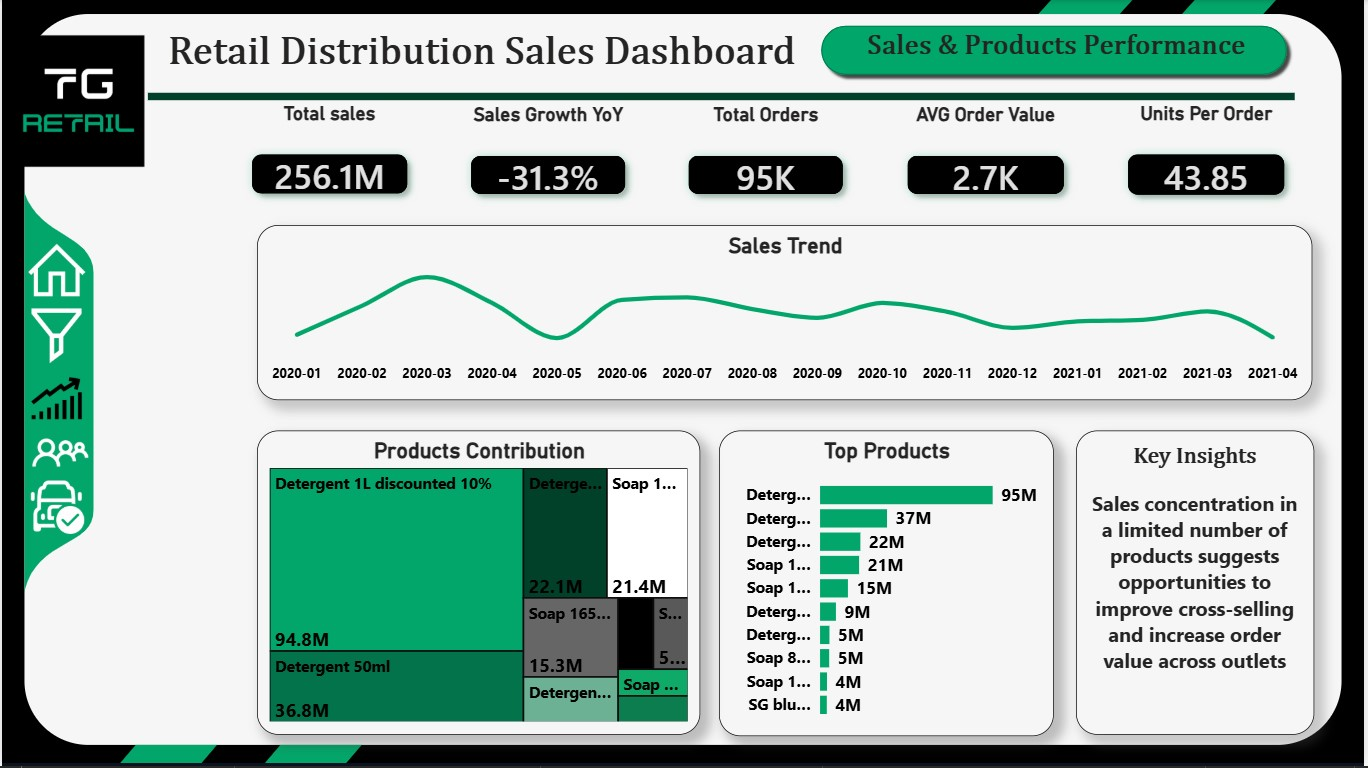

The page's visual inventory and layout, read from the dashboard file:
{"tool":"powerbi","page":{"name":"Sales & Products Performance","canvas":[1280,720],"ordinal":1},"visuals":[{"type":"cardVisual","title":"AVG Order Value","fields":{"Data":["key_Measures.Avg Order Value"]},"box":[821.9,97.1,205.4,114.8],"z":0},{"type":"image","title":"logo","box":[0,0,143.8,190.1],"z":1000},{"type":"textbox","box":[150.2,22.4,611.9,55.9],"z":2000},{"type":"shape","box":[762.1,17.6,452.1,60.7],"z":3000},{"type":"textbox","box":[802,22.4,377.1,73.5],"z":4000},{"type":"treemap","title":"Products Contribution","fields":{"Group":["sales.Product Name"],"Values":["key_Measures.Total Sales"]},"box":[239.7,404.2,417,286],"z":5000},{"type":"cardVisual","title":"Units Per Order","fields":{"Data":["key_Measures.Units per Transaction"]},"box":[1028.8,95.4,205.4,116.5],"z":6000},{"type":"cardVisual","title":"Total Orders","fields":{"Data":["key_Measures.Count of Orders"]},"box":[616.8,97.1,203.8,114.8],"z":7000},{"type":"cardVisual","title":"Sales Growth YoY","fields":{"Data":["key_Measures.YOY Growth %"]},"box":[411.6,97.1,203.8,114.8],"z":8000},{"type":"cardVisual","title":"Total sales","fields":{"Data":["key_Measures.Total Sales"]},"box":[206.1,96.3,204.1,115.5],"z":9000},{"type":"lineChart","title":"Sales Trend","fields":{"Category":["Calendar.Year-Month"],"Y":["key_Measures.Total Sales"]},"box":[239.7,210.9,992.2,164.6],"z":10000},{"type":"clusteredBarChart","title":"Top Products","fields":{"Category":["sales.Product Name"],"Y":["key_Measures.Total Sales"]},"box":[674.2,404.2,314.7,287.6],"z":11000},{"type":"image","title":"home","box":[16,223.7,71.9,62.3],"z":13000},{"type":"image","title":"customers","box":[20.8,399.4,67.1,52.7],"z":14000},{"type":"image","title":"supply","box":[6.4,447.3,87.9,57.5],"z":15000},{"type":"shape","title":"filter panel","box":[94.2,159.8,131,530.4],"z":17000,"group":"g1"},{"type":"group","id":"g1","title":"filters panel","box":[84.7,159.8,140.6,530.4],"z":17000},{"type":"image","title":"Filter Active","box":[18.1,280.4,70.9,70.9],"z":19000},{"type":"image","title":"close","box":[183.7,172.6,41.5,39.9],"z":19006,"group":"g1"},{"type":"image","title":"reset filters","box":[86.6,173.4,52,38.5],"z":19506,"group":"g1"},{"type":"image","title":"Sales Active","box":[21.4,346.4,61,57.7],"z":20000},{"type":"slicer","title":"year slicer","fields":{"Values":["Calendar.Year"]},"box":[88.6,223.4,136.7,80.9],"z":20006,"group":"g1"},{"type":"slicer","title":"warehouse name slicer","fields":{"Values":["warehouse.Warehouse Name"]},"box":[84.7,319.7,140.6,109.8],"z":20506,"group":"g1"},{"type":"slicer","title":"product name slicer","fields":{"Values":["sales.Product Name"]},"box":[86.6,444.9,138.7,109.8],"z":21006,"group":"g1"},{"type":"slicer","title":"outlet name slicer","fields":{"Values":["outlets.Outlet Name"]},"box":[84.7,554.7,140.6,115.5],"z":21506,"group":"g1"},{"type":"textbox","box":[1009.7,404.2,223.7,286],"z":23000}]}

Visuals, with their boxes in screenshot pixels (x1, y1, x2, y2), scaled from the page's 1280x720 canvas onto the 1368x768 screenshot:
"AVG Order Value" cardVisual: 878:104:1098:226
"logo" image: 0:0:154:203
textbox: 161:24:814:84
shape: 814:19:1298:84
textbox: 857:24:1260:102
"Products Contribution" treemap: 256:431:702:736
"Units Per Order" cardVisual: 1100:102:1319:226
"Total Orders" cardVisual: 659:104:877:226
"Sales Growth YoY" cardVisual: 440:104:658:226
"Total sales" cardVisual: 220:103:438:226
"Sales Trend" lineChart: 256:225:1317:401
"Top Products" clusteredBarChart: 721:431:1057:738
"home" image: 17:239:94:305
"customers" image: 22:426:94:482
"supply" image: 7:477:101:538
"filter panel" shape: 101:170:241:736
"filters panel" group: 91:170:241:736
"Filter Active" image: 19:299:95:375
"close" image: 196:184:241:227
"reset filters" image: 93:185:148:226
"Sales Active" image: 23:369:88:431
"year slicer" slicer: 95:238:241:325
"warehouse name slicer" slicer: 91:341:241:458
"product name slicer" slicer: 93:475:241:592
"outlet name slicer" slicer: 91:592:241:715
textbox: 1079:431:1318:736
